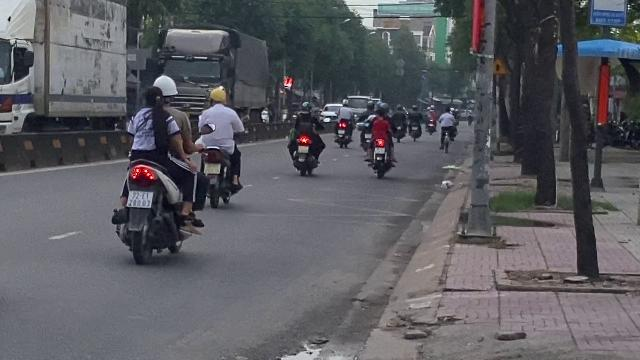helmet: (151, 74, 177, 98), (208, 87, 226, 105)
licenseplate: (128, 192, 152, 208), (204, 163, 220, 173)
motorcyclist: (111, 69, 203, 265), (192, 87, 245, 207)
nohelmet: (144, 85, 164, 109)
